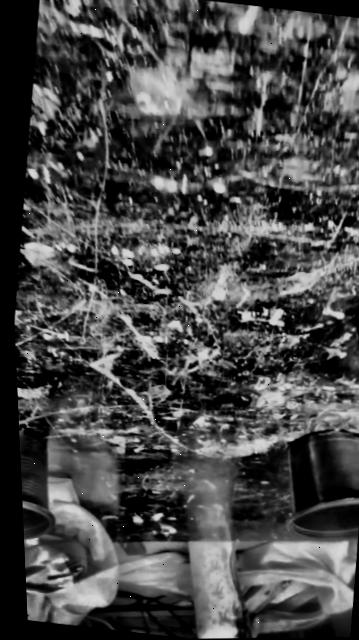pot: (287, 430, 359, 540), (19, 417, 67, 546)
